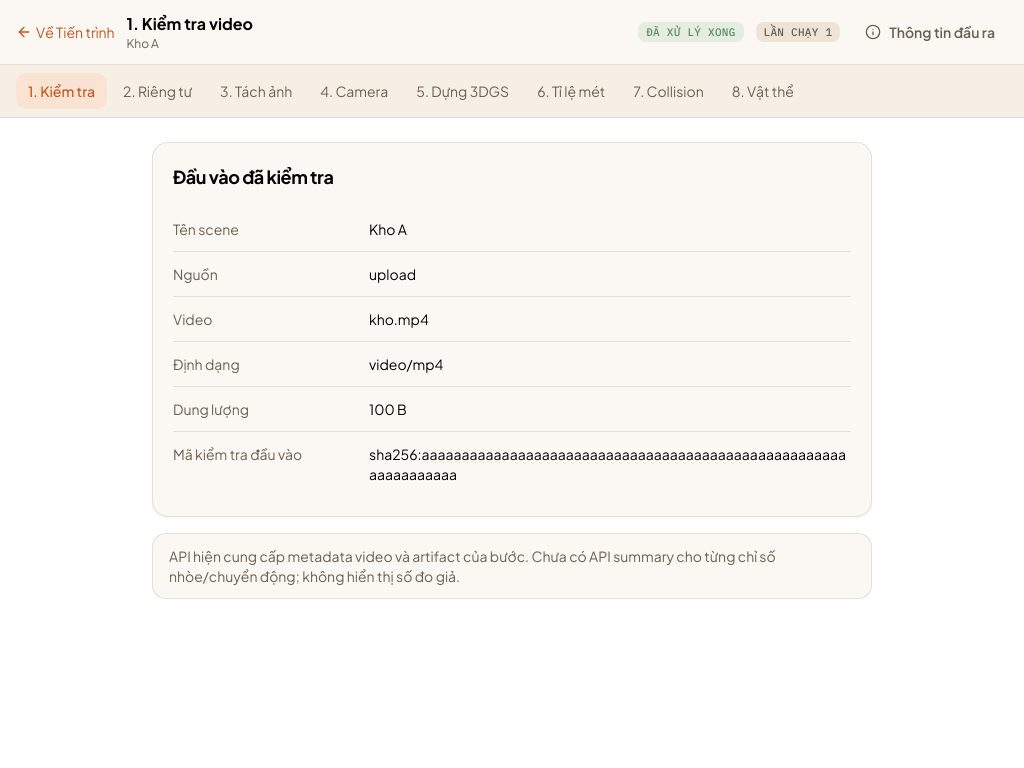
it: Inspect theo giai đoạn › nội dung khác nhau cho ST-INPUT-VALIDATE, viewport chính và output panel thu gọn
Expected: the text "Đã xử lý xong" is shown, [638,22,744,42]
Expected: the heading "Đầu vào đã kiểm tra" is shown, [173,165,333,188]
Step 1. Click the button "Thông tin đầu ra" → (930, 32), box [852,16,1008,48]
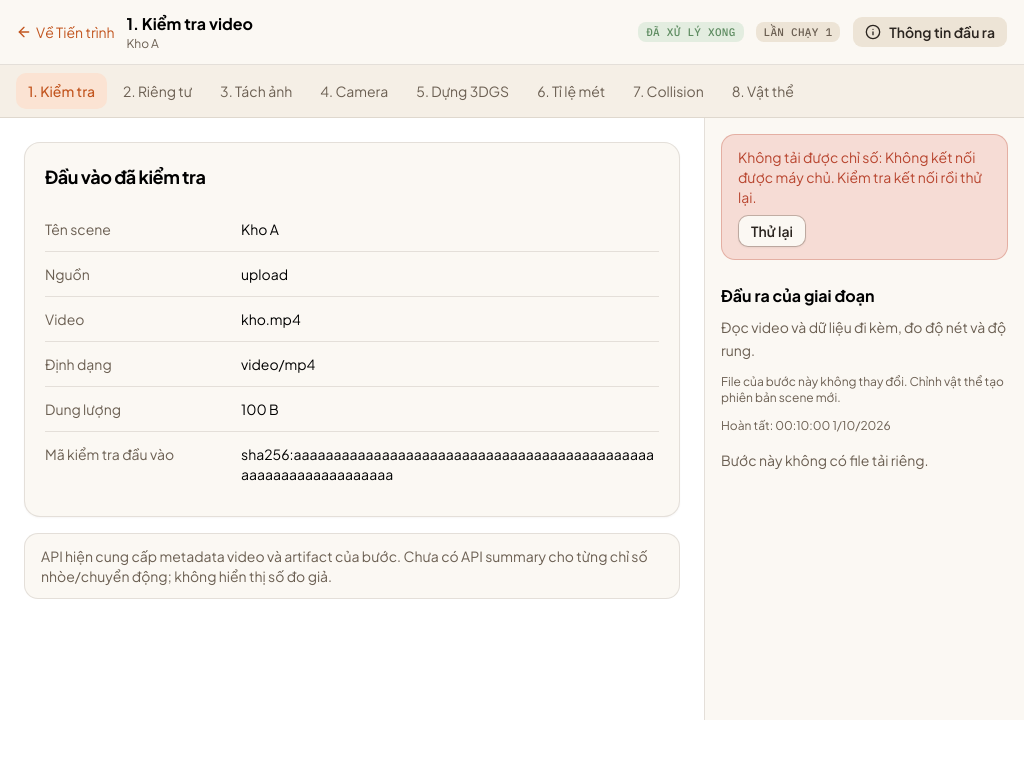
Now the element named "Thông tin đầu ra" is shown, box [704,118,1023,720]
